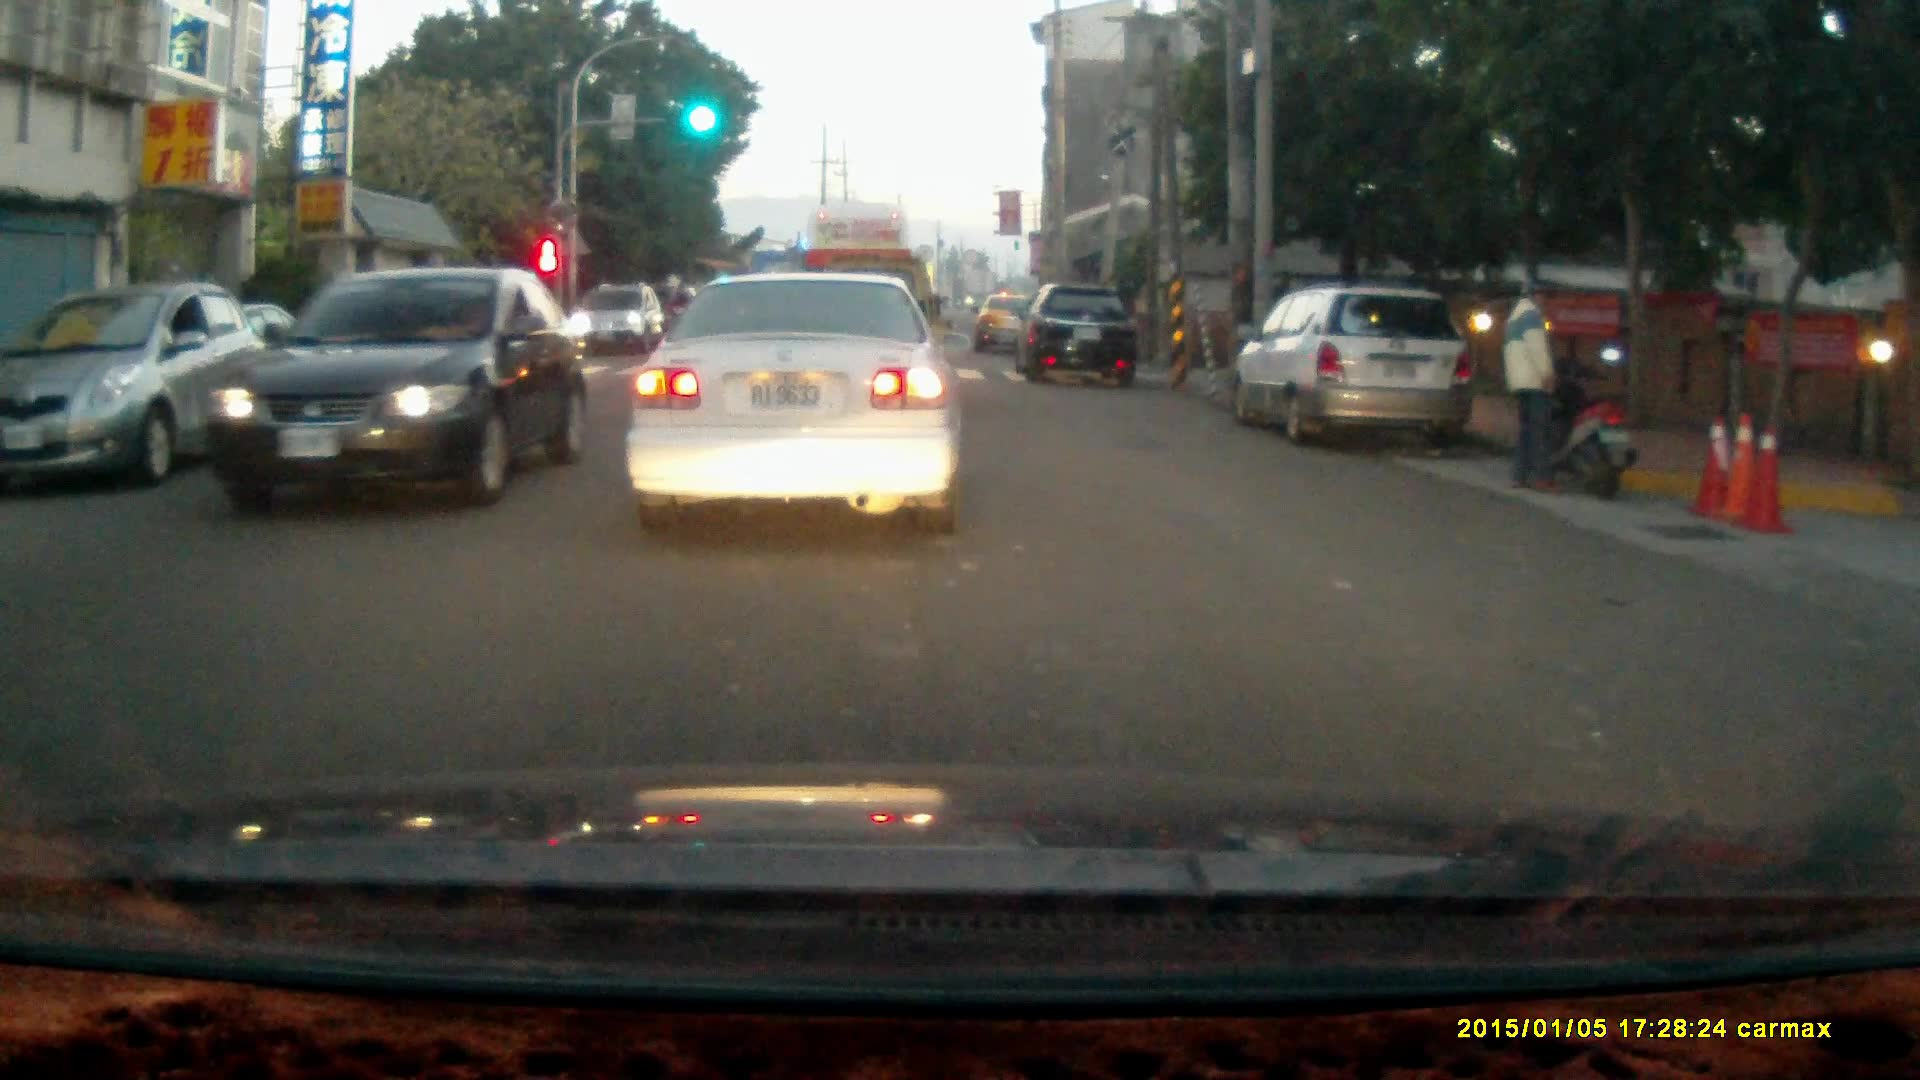pedestrian: (1501, 276, 1565, 497)
vehicle: (193, 267, 592, 517), (625, 273, 963, 538), (1, 284, 275, 491), (1244, 292, 1477, 458), (802, 205, 921, 377), (1020, 280, 1149, 386), (576, 282, 667, 356)
